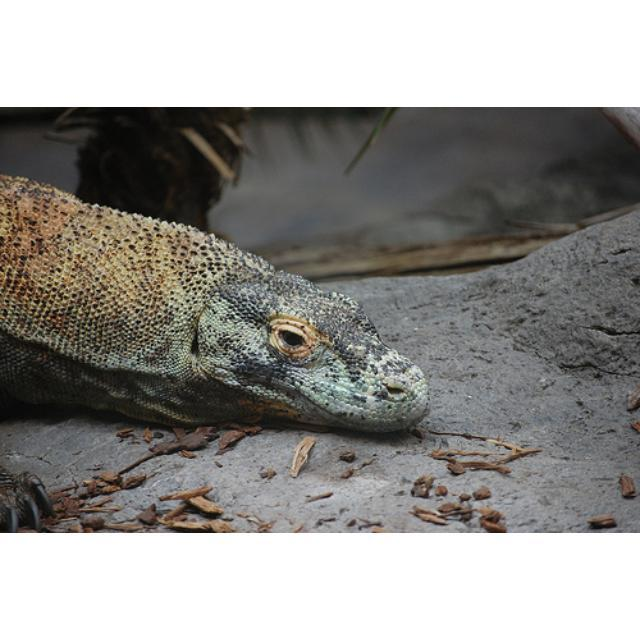KomodoDragon: (1, 167, 432, 438)
